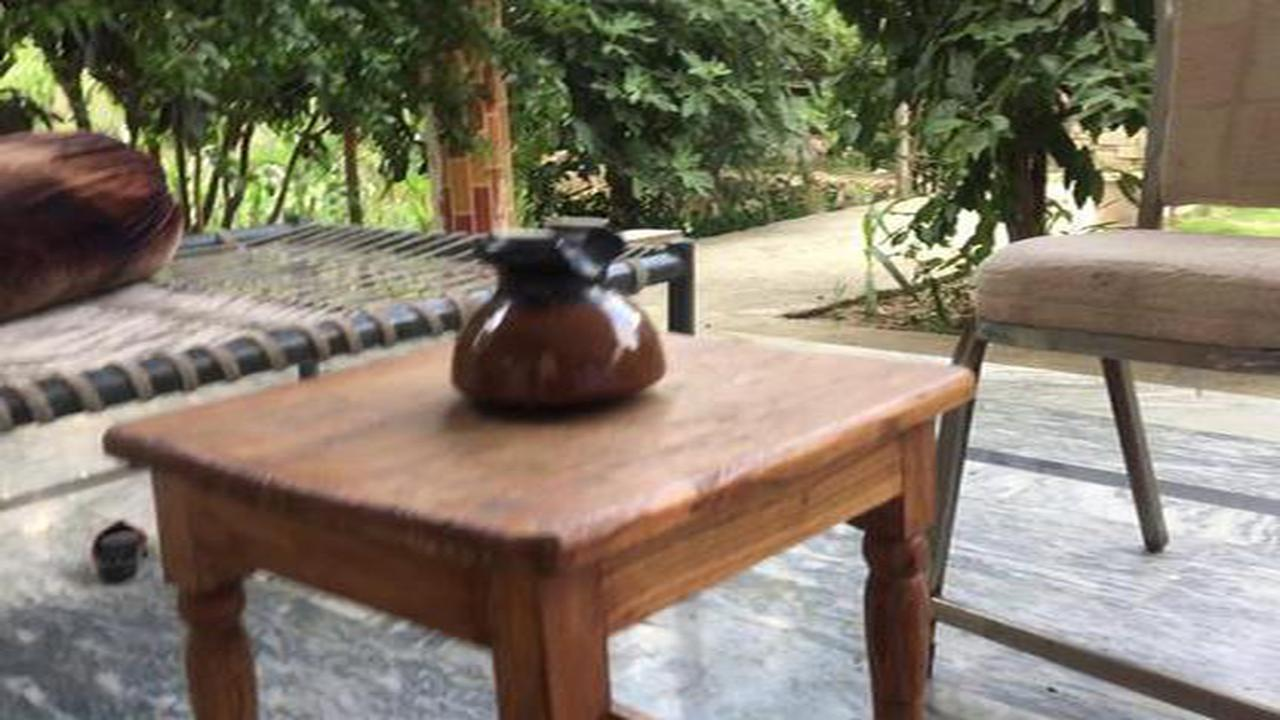insulator_pin: (444, 200, 677, 425)
